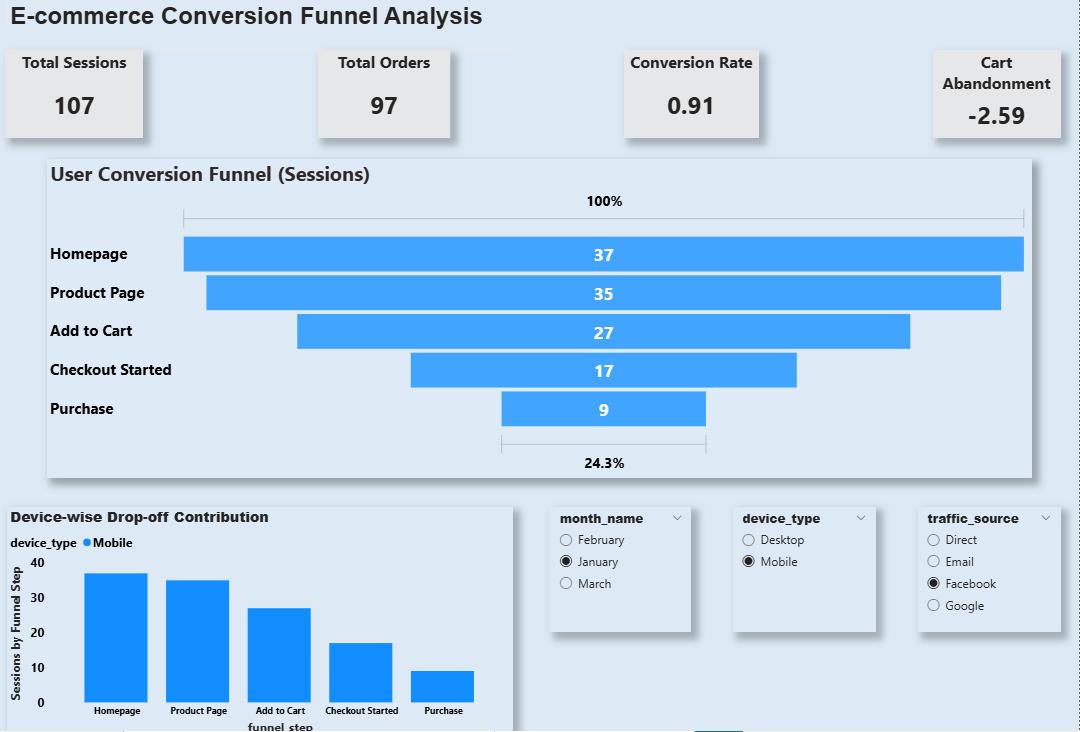

This screenshot's page, from the dashboard's own definition file:
{"tool":"powerbi","page":{"name":"Conversion Funnel","canvas":[1440,2560],"ordinal":0},"visuals":[{"type":"textbox","box":[9.6,0,675.1,68.6],"z":0},{"type":"card","title":"Total Sessions","fields":{"Values":["_Measures.Sessions"]},"box":[9,68.7,183.6,116.4],"z":1000},{"type":"card","title":"Total Orders","fields":{"Values":["_Measures.Total Orders"]},"box":[424.4,68.3,177,117.1],"z":2000},{"type":"card","title":"Conversion Rate","fields":{"Values":["_Measures.Conversion Rate %"]},"box":[833.3,68.3,179.8,117.1],"z":3000},{"type":"card","title":"Cart Abandonment","fields":{"Values":["_Measures.Cart Abandonment Rate %"]},"box":[1245,68.3,170,116.7],"z":4000},{"type":"funnel","title":"User Conversion Funnel (Sessions)","fields":{"Category":["WebEvents.funnel_step"],"Y":["_Measures.Sessions by Funnel Step"]},"box":[63.3,213.3,1313.3,425],"z":5000},{"type":"slicer","fields":{"Values":["Devices.device_type"]},"box":[978.3,676.7,190,168.3],"z":6000},{"type":"slicer","fields":{"Values":["TrafficSource.traffic_source"]},"box":[1225,676.7,190,168.3],"z":7000},{"type":"slicer","fields":{"Values":["Date.month_name"]},"box":[735,676.7,188.3,168.3],"z":8000},{"type":"clusteredColumnChart","title":"Device-wise Drop-off Contribution","fields":{"Category":["WebEvents.funnel_step"],"Y":["_Measures.Sessions by Funnel Step"],"Series":["Devices.device_type"]},"box":[10,676.7,675,310],"z":9000}]}

Visuals, with their boxes on the page's 1440x2560 design canvas (x1, y1, x2, y2). These are canvas units, not pixel positions in the 1080x732 screenshot, which may show the page scaled, cropped or inside an application window:
textbox: [10, 0, 685, 69]
"Total Sessions" card: [9, 69, 193, 185]
"Total Orders" card: [424, 68, 601, 185]
"Conversion Rate" card: [833, 68, 1013, 185]
"Cart Abandonment" card: [1245, 68, 1415, 185]
"User Conversion Funnel (Sessions)" funnel: [63, 213, 1377, 638]
slicer - Devices.device_type: [978, 677, 1168, 845]
slicer - TrafficSource.traffic_source: [1225, 677, 1415, 845]
slicer - Date.month_name: [735, 677, 923, 845]
"Device-wise Drop-off Contribution" clusteredColumnChart: [10, 677, 685, 987]
